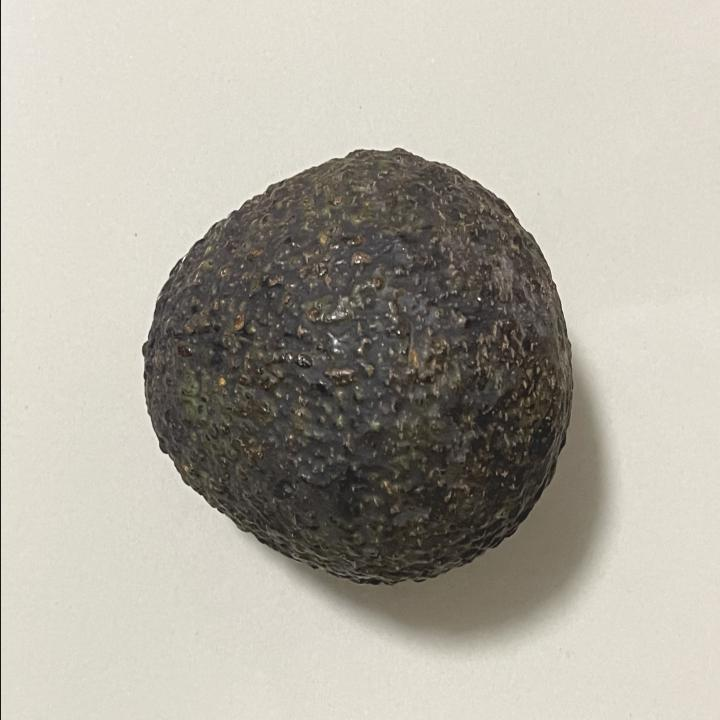Level2: (130, 140, 584, 594)
